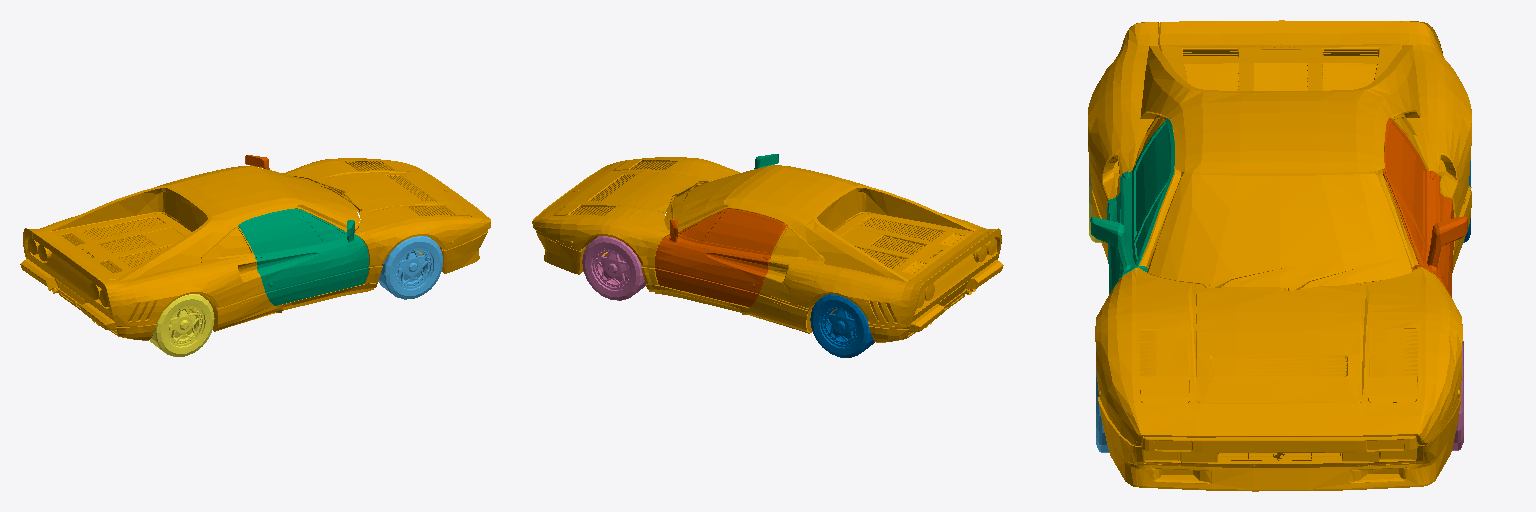
URDF robot description (predicted_car_butterfly_doors):
<?xml version="1.0"?>
<robot name="predicted_car_butterfly_doors">
  <link name="base_link">
    <visual>
      <geometry>
        <mesh filename="meshes/part_01.stl"/>
      </geometry>
    </visual>
    <visual>
      <geometry>
        <mesh filename="meshes/part_02.stl"/>
      </geometry>
    </visual>
    <visual>
      <geometry>
        <mesh filename="meshes/part_03.stl"/>
      </geometry>
    </visual>
    <visual>
      <geometry>
        <mesh filename="meshes/part_04.stl"/>
      </geometry>
    </visual>
    <visual>
      <geometry>
        <mesh filename="meshes/part_05.stl"/>
      </geometry>
    </visual>
    <visual>
      <geometry>
        <mesh filename="meshes/part_06.stl"/>
      </geometry>
    </visual>
    <visual>
      <geometry>
        <mesh filename="meshes/part_07.stl"/>
      </geometry>
    </visual>
    <visual>
      <geometry>
        <mesh filename="meshes/part_08.stl"/>
      </geometry>
    </visual>
    <visual>
      <geometry>
        <mesh filename="meshes/part_09.stl"/>
      </geometry>
    </visual>
    <visual>
      <geometry>
        <mesh filename="meshes/part_10.stl"/>
      </geometry>
    </visual>
    <visual>
      <geometry>
        <mesh filename="meshes/part_11.stl"/>
      </geometry>
    </visual>
    <visual>
      <geometry>
        <mesh filename="meshes/part_13.stl"/>
      </geometry>
    </visual>
  </link>
  <link name="link_manualv2_1777649275899_J0">
    <visual>
      <origin xyz="-0.2683 0.1888 0.0560" rpy="0 0 0"/>
      <geometry>
        <mesh filename="meshes/part_12.stl"/>
      </geometry>
    </visual>
  </link>
  <joint name="joint_manualv2_1777649275899_J0" type="continuous">
    <parent link="base_link"/>
    <child link="link_manualv2_1777649275899_J0"/>
    <origin xyz="0.2683 -0.1888 -0.0560" rpy="0 0 0"/>
    <axis xyz="0.0000 -1.0000 0.0000"/>
  </joint>
  <link name="link_manualv2_1777649275899_J1">
    <visual>
      <origin xyz="0.0868 0.1284 -0.1119" rpy="0 0 0"/>
      <geometry>
        <mesh filename="meshes/part_15.stl"/>
      </geometry>
    </visual>
  </link>
  <joint name="joint_manualv2_1777649275899_J1" type="revolute">
    <parent link="base_link"/>
    <child link="link_manualv2_1777649275899_J1"/>
    <origin xyz="-0.0868 -0.1284 0.1119" rpy="0 0 0"/>
    <axis xyz="-0.9968 -0.0686 -0.0403"/>
    <limit lower="0.0" upper="1.7453" effort="1000" velocity="1.0"/>
  </joint>
  <link name="link_manualv2_1777649275899_J2">
    <visual>
      <origin xyz="0.3157 0.1943 0.0560" rpy="0 0 0"/>
      <geometry>
        <mesh filename="meshes/part_17.stl"/>
      </geometry>
    </visual>
  </link>
  <joint name="joint_manualv2_1777649275899_J2" type="continuous">
    <parent link="base_link"/>
    <child link="link_manualv2_1777649275899_J2"/>
    <origin xyz="-0.3157 -0.1943 -0.0560" rpy="0 0 0"/>
    <axis xyz="0.0000 -1.0000 0.0000"/>
  </joint>
  <link name="link_manualv2_1777649275899_J3">
    <visual>
      <origin xyz="0.3157 -0.1941 0.0560" rpy="0 0 0"/>
      <geometry>
        <mesh filename="meshes/part_16.stl"/>
      </geometry>
    </visual>
  </link>
  <joint name="joint_manualv2_1777649275899_J3" type="continuous">
    <parent link="base_link"/>
    <child link="link_manualv2_1777649275899_J3"/>
    <origin xyz="-0.3157 0.1941 -0.0560" rpy="0 0 0"/>
    <axis xyz="0.0000 1.0000 0.0000"/>
  </joint>
  <link name="link_manualv2_1777649275899_J4">
    <visual>
      <origin xyz="0.0179 -0.1234 -0.1111" rpy="0 0 0"/>
      <geometry>
        <mesh filename="meshes/part_14.stl"/>
      </geometry>
    </visual>
  </link>
  <joint name="joint_manualv2_1777649275899_J4" type="revolute">
    <parent link="base_link"/>
    <child link="link_manualv2_1777649275899_J4"/>
    <origin xyz="-0.0179 0.1234 0.1111" rpy="0 0 0"/>
    <axis xyz="0.9975 0.0110 -0.0694"/>
    <limit lower="0.0" upper="1.7453" effort="1000" velocity="1.0"/>
  </joint>
  <link name="link_manualv2_1777649275899_J5">
    <visual>
      <origin xyz="-0.2624 -0.1886 0.0560" rpy="0 0 0"/>
      <geometry>
        <mesh filename="meshes/part_00.stl"/>
      </geometry>
    </visual>
  </link>
  <joint name="joint_manualv2_1777649275899_J5" type="continuous">
    <parent link="base_link"/>
    <child link="link_manualv2_1777649275899_J5"/>
    <origin xyz="0.2624 0.1886 -0.0560" rpy="0 0 0"/>
    <axis xyz="0.0000 1.0000 0.0000"/>
  </joint>
</robot>

--- What the picture shows (computed from the rendered views, not written in the file) ---
Views: 3 orthographic renders of the robot side by side, from view 1: azimuth 30°, elevation 25°; view 2: azimuth 150°, elevation 25°; view 3: azimuth 270°, elevation 25°.
Robot: predicted_car_butterfly_doors — 7 links, 6 joints (2 revolute, 4 continuous); root link base_link; default pose: every joint at zero.
Links seen in each view (by area): view 1: base_link, link_manualv2_1777649275899_J1, link_manualv2_1777649275899_J0, link_manualv2_1777649275899_J2; view 2: base_link, link_manualv2_1777649275899_J4, link_manualv2_1777649275899_J5, link_manualv2_1777649275899_J3; view 3: base_link, link_manualv2_1777649275899_J4, link_manualv2_1777649275899_J1.
Link boxes in pixels (x1,y1,x2,y2): base_link: [20, 158, 490, 340]; link_manualv2_1777649275899_J1: [238, 209, 368, 305]; link_manualv2_1777649275899_J0: [378, 236, 442, 299]; link_manualv2_1777649275899_J2: [150, 294, 214, 356]; base_link: [532, 157, 1003, 342]; link_manualv2_1777649275899_J4: [655, 208, 787, 306]; link_manualv2_1777649275899_J5: [582, 236, 645, 300]; link_manualv2_1777649275899_J3: [810, 294, 874, 357]; base_link: [1088, 20, 1471, 491]; link_manualv2_1777649275899_J4: [1382, 118, 1467, 297]; link_manualv2_1777649275899_J1: [1090, 118, 1174, 293].
Bounding box of the posed robot: 1 × 0.4514 × 0.2622 m (x, y, z).
18 mesh visuals loaded from 18 distinct referenced files (18 binary STL).
